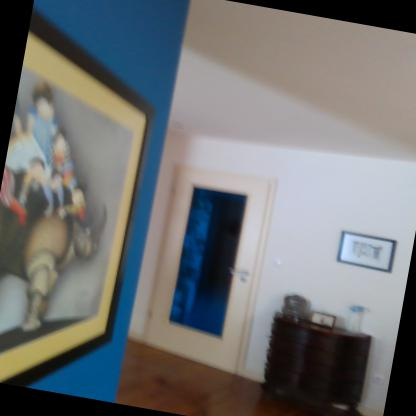closed: (132, 152, 292, 376)
